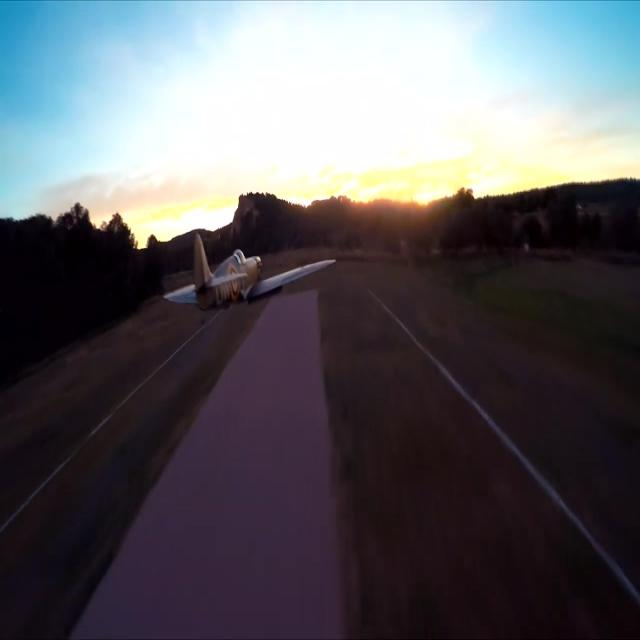iha: (160, 262, 336, 282)
